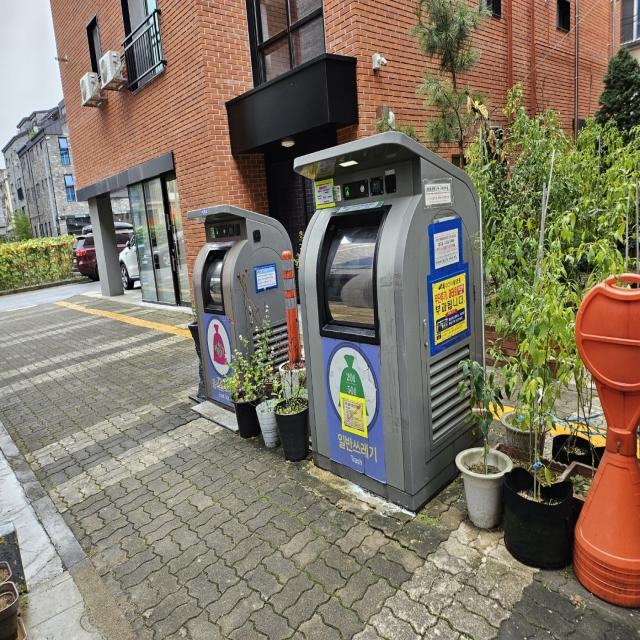CleanNet: (298, 134, 484, 503), (185, 206, 292, 370)
